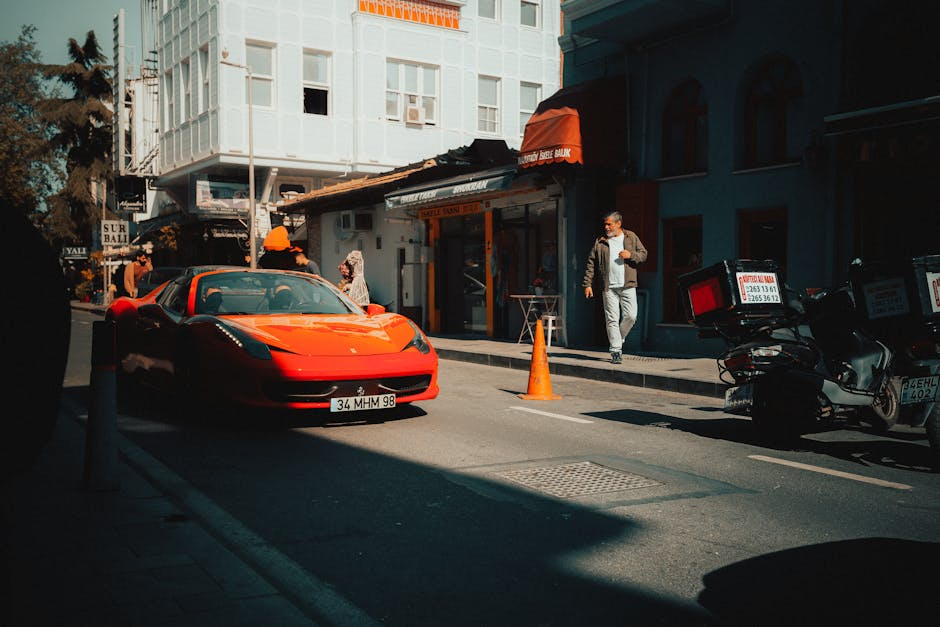traffic_cone: (516, 318, 563, 401)
